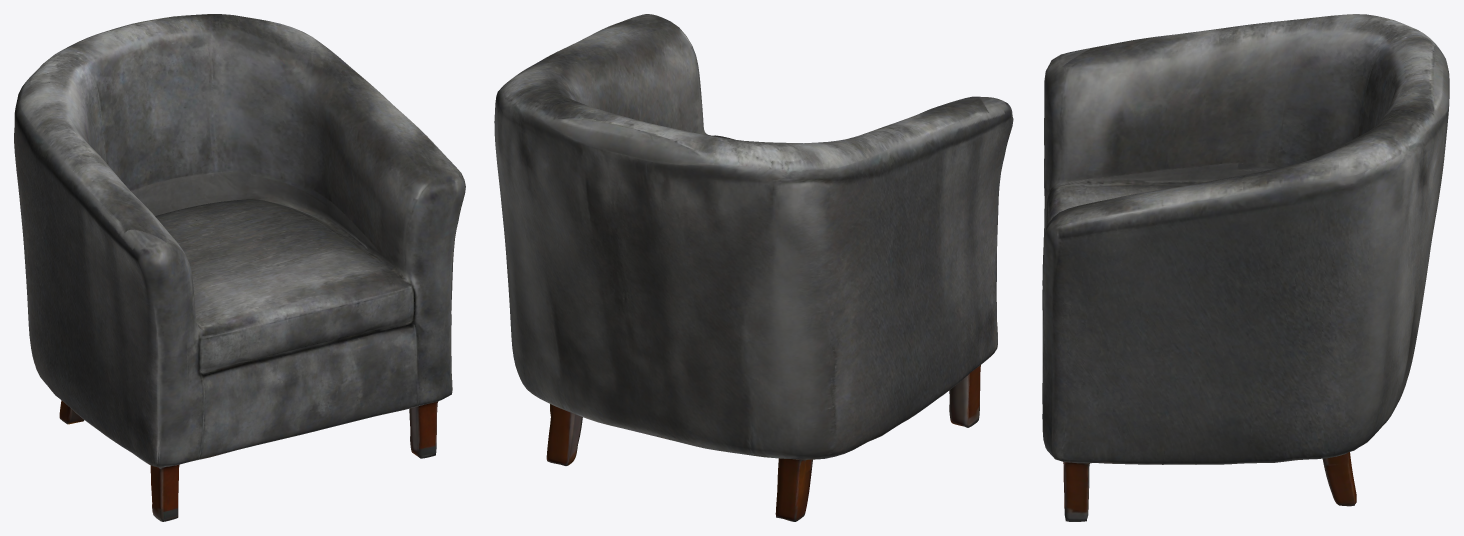
File: sillon_chico.glb
3 views of the same model, side by side, from view 1: azimuth 30°, elevation 25°; view 2: azimuth 150°, elevation 25°; view 3: azimuth 270°, elevation 25° (orthographic). The views are drawn at different scales.
Parts seen in each view (by area): view 1: Mesh_0; view 2: Mesh_0; view 3: Mesh_0.
Boxes of the visible parts, x1,y1,x2,y2 form: Mesh_0: (14,14,465,521); Mesh_0: (494,14,1013,521); Mesh_0: (1042,14,1449,521).
Size of the model in its own units: 0.7987 by 0.8 by 0.7784.
Materials: 1 (1 with a texture image).
